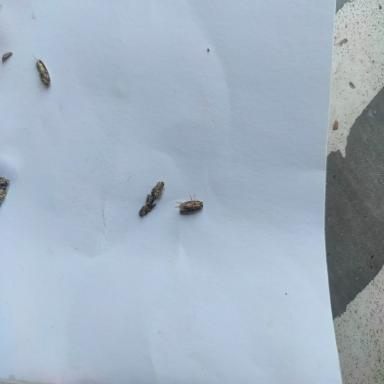pbw: (32, 53, 51, 89), (175, 193, 203, 214)
